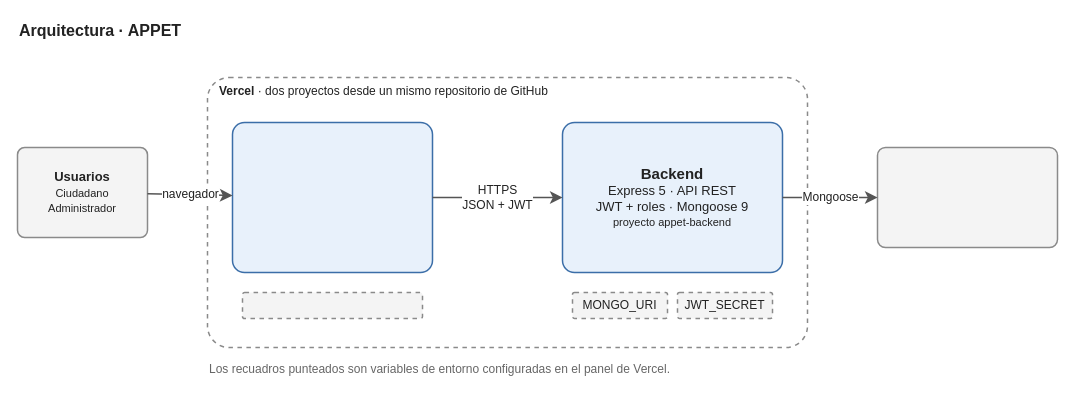
The diagram is 1076 pixels wide and 398 high, and some of its shapes have lost their labels. The shapes that lost their labels are listed below. From the top down, each one's centre as x and y in pixels, then its label:
the point at 332,197: Frontend React 19 + Vite Bootstrap 5 proyecto appet-frontend
the point at 967,197: MongoDB Atlas base appet_prod 4 colecciones
the point at 332,305: VITE_API_URL
